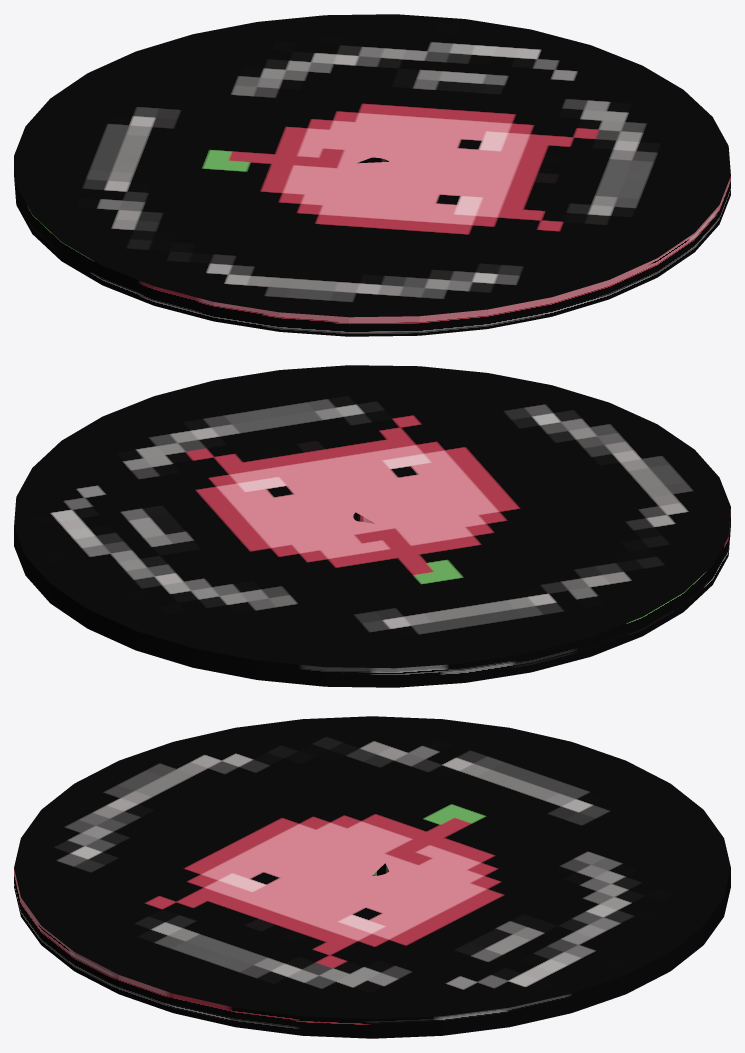
The model's file is Vinyl_TSS_FINAL.fbx.
3 renders of one model, top to bottom at view 1: azimuth 30°, elevation 25°; view 2: azimuth 150°, elevation 25°; view 3: azimuth 270°, elevation 25°, orthographic.
Visible parts, largest first — view 1: BIG_circle; view 2: BIG_circle; view 3: BIG_circle.
Part boxes in pixels (x1,y1,x2,y2): BIG_circle: [14, 14, 730, 336]; BIG_circle: [14, 365, 730, 687]; BIG_circle: [14, 716, 730, 1038].
Bounding box in the file's own units: 2 × 0.06 × 2.
1 material, 1 textured.
